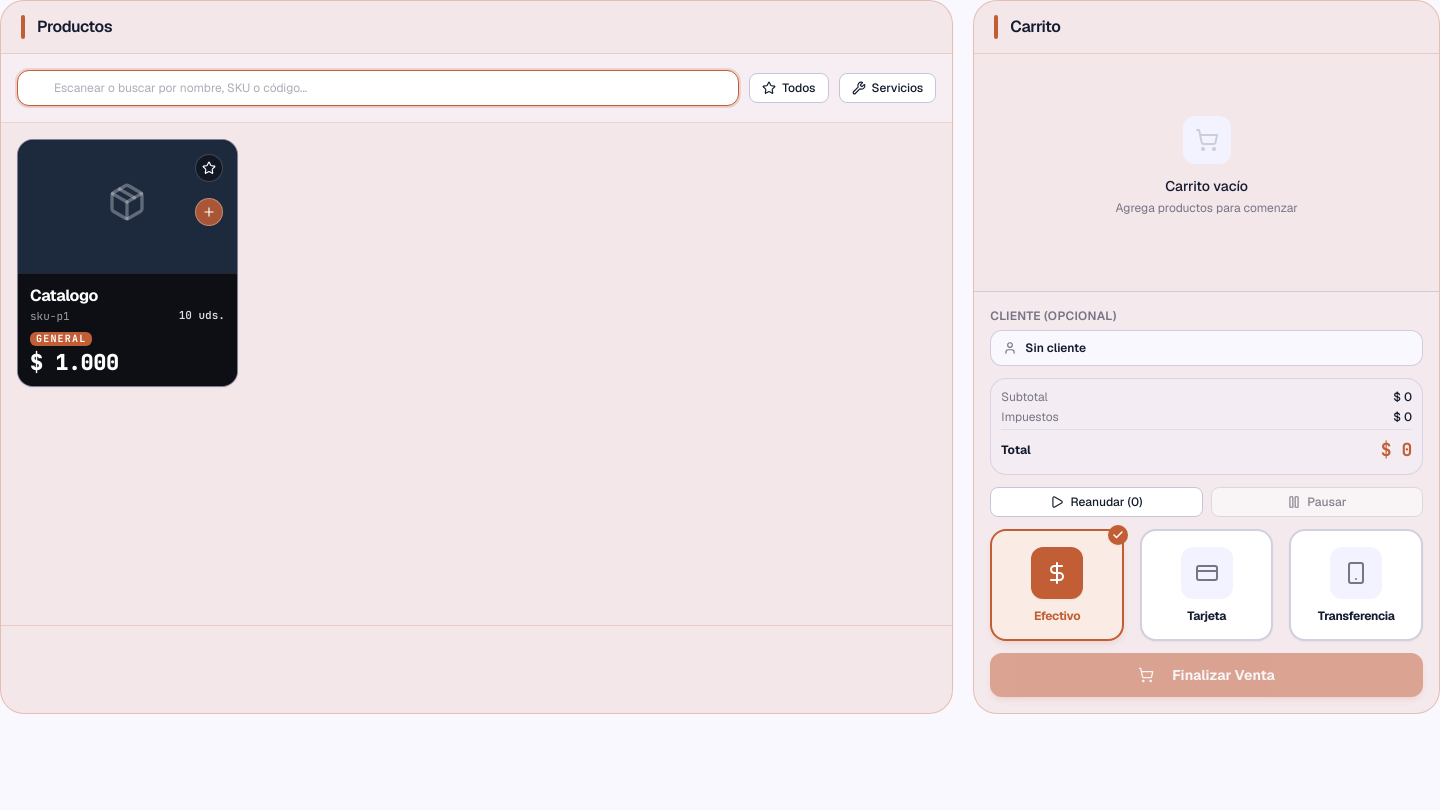
Test: POS behavior evidence (#19, #18) › sends empty favorites as an explicit restrictive IDs filter
The image size is (1440, 810).
Click the button "Todos". click: coordinates (789, 88)
box: [749, 73, 829, 103]
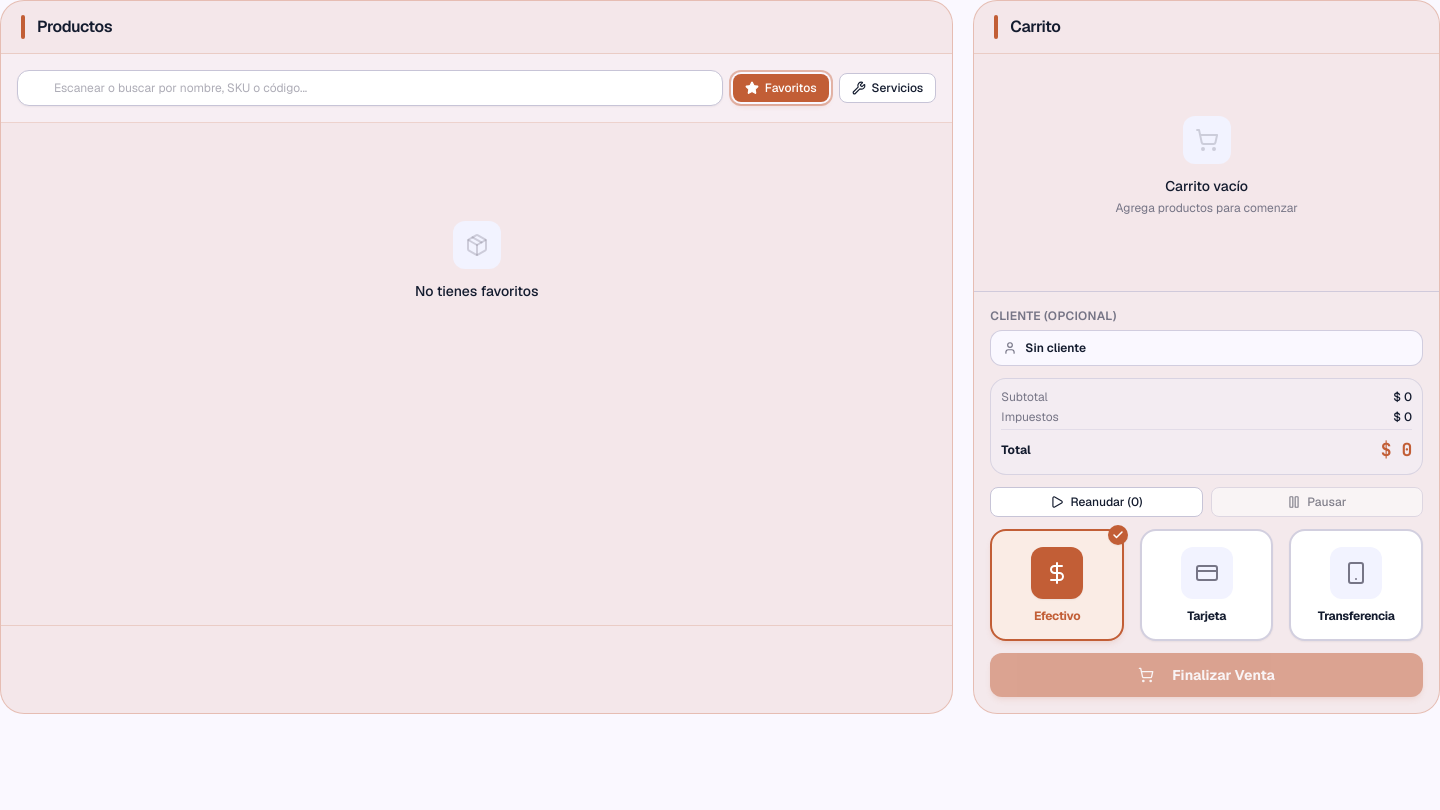
expect the heading "Catalogo" is gone: met
